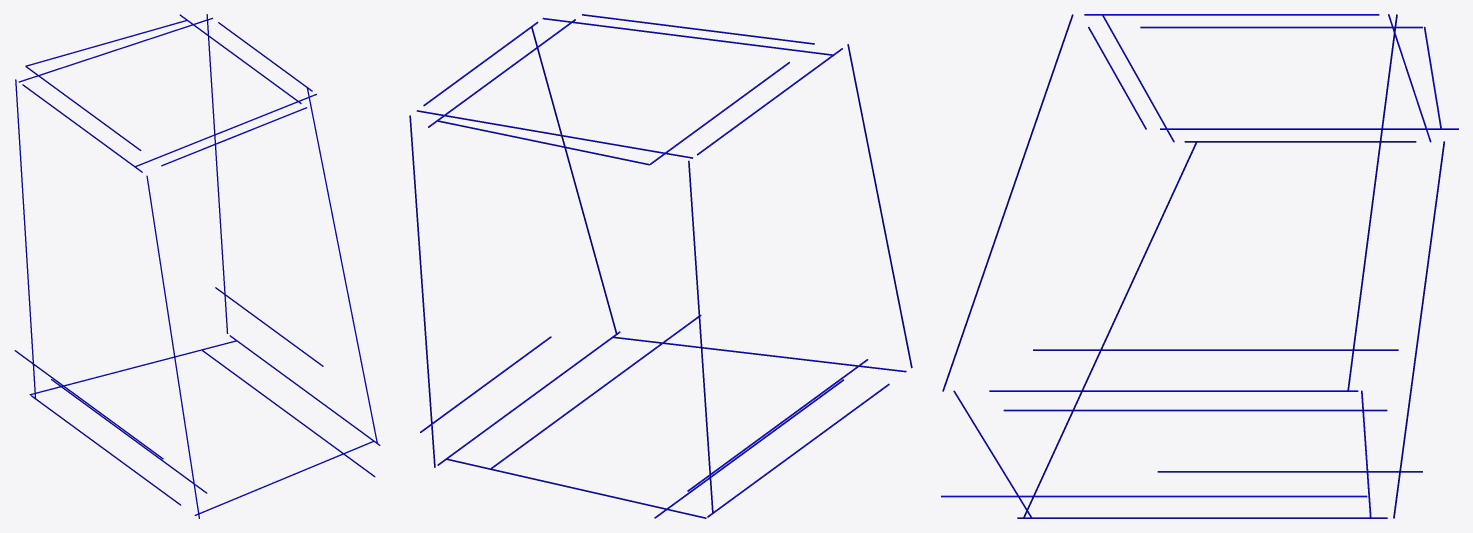
The model's file is corrected_3d_strokes.glb.
3 renders of one model, left to right at view 1: azimuth 30°, elevation 25°; view 2: azimuth 150°, elevation 25°; view 3: azimuth 270°, elevation 25°, orthographic. The views are drawn at different scales.
Parts seen in each view (by area): view 1: world; view 2: world; view 3: world.
Part boxes in pixels (x1,y1,x2,y2): world: [14, 14, 380, 518]; world: [409, 14, 912, 518]; world: [941, 14, 1458, 518].
Bounding box in the file's own units: 7 × 9.66 × 12.
